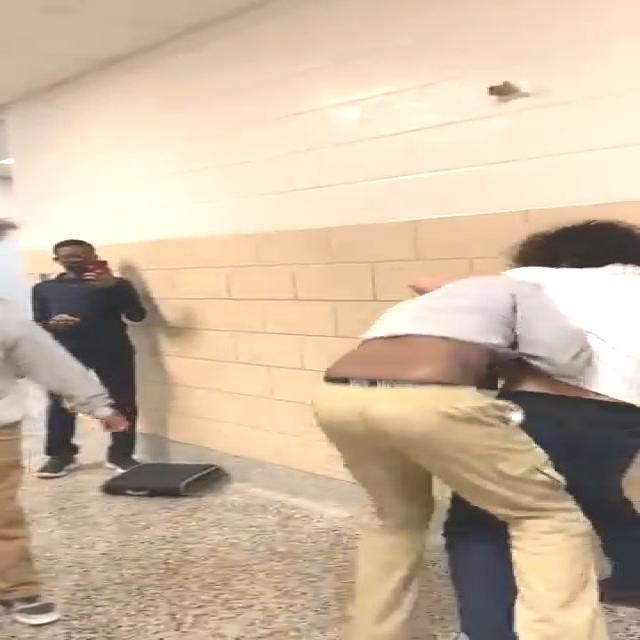fight: (311, 216, 640, 640)
